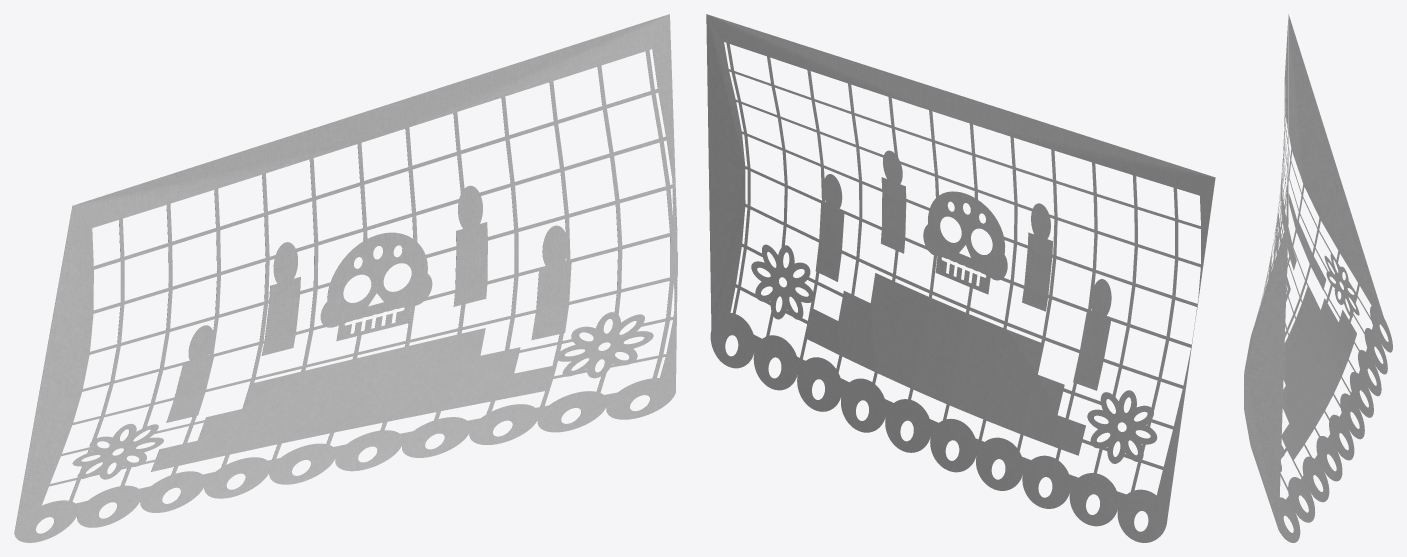
The model's file is papel_5_animado.glb.
The picture shows the model from 3 angles, left to right: view 1: azimuth 30°, elevation 25°; view 2: azimuth 150°, elevation 25°; view 3: azimuth 270°, elevation 25°; orthographic projection. The views are drawn at different scales.
Parts seen in each view (by area): view 1: Papel_5; view 2: Papel_5; view 3: Papel_5.
Boxes of the visible parts, x1,y1,x2,y2 form: Papel_5: [14, 14, 677, 542]; Papel_5: [706, 14, 1215, 542]; Papel_5: [1244, 14, 1392, 542].
Size of the model in its own units: 0.58 by 0.4034 by 0.1504.
Materials: 1 (1 with a texture image).
